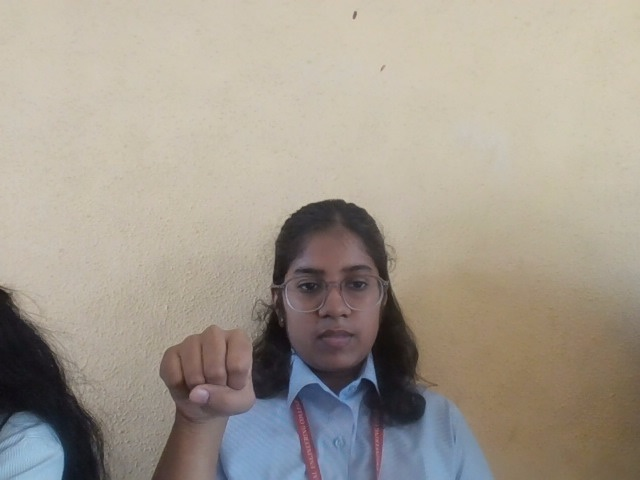Yes: (150, 321, 267, 429)
